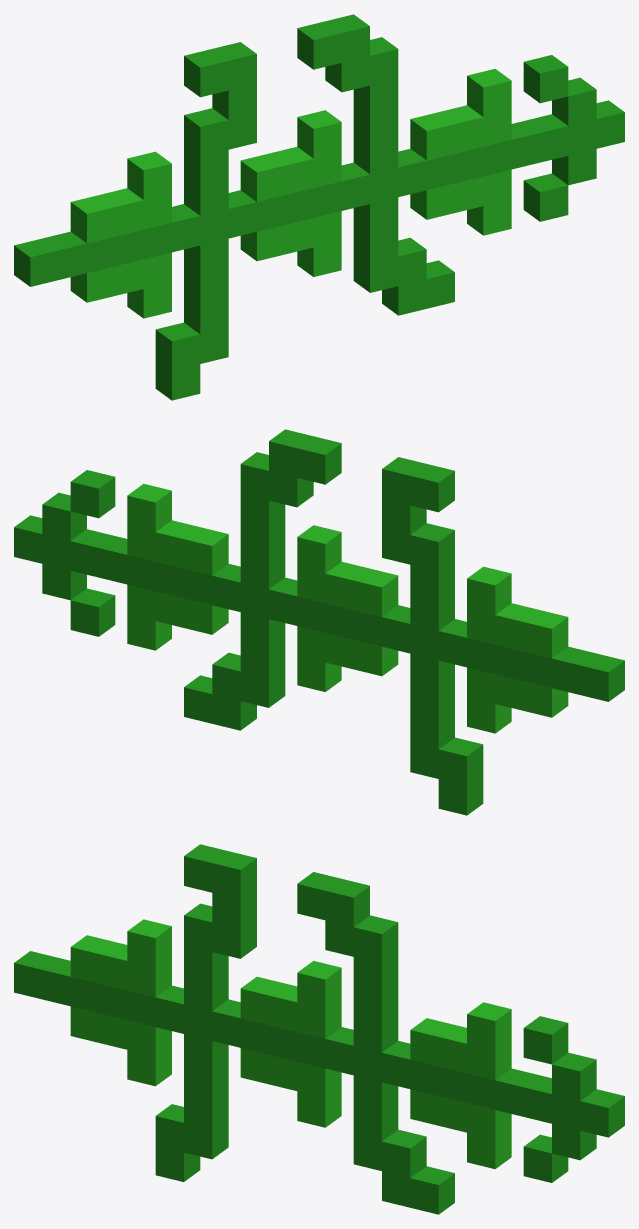
The model's file is liana.fbx.
3 views of the same model, one above another, from view 1: azimuth 30°, elevation 25°; view 2: azimuth 150°, elevation 25°; view 3: azimuth 330°, elevation 25° (orthographic).
Parts seen in each view (by area): view 1: Liana; view 2: Liana; view 3: Liana.
Boxes of the visible parts, <box> form: Liana: <box>14,14,624,400</box>; Liana: <box>14,429,624,815</box>; Liana: <box>14,844,624,1214</box>.
Bounding box in the file's own units: 4.2 × 2.2 × 0.2.
Materials: 1 (1 with a texture image).
